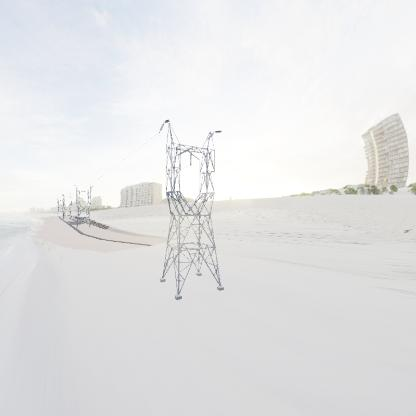tower: (157, 118, 228, 303), (72, 185, 94, 229)
